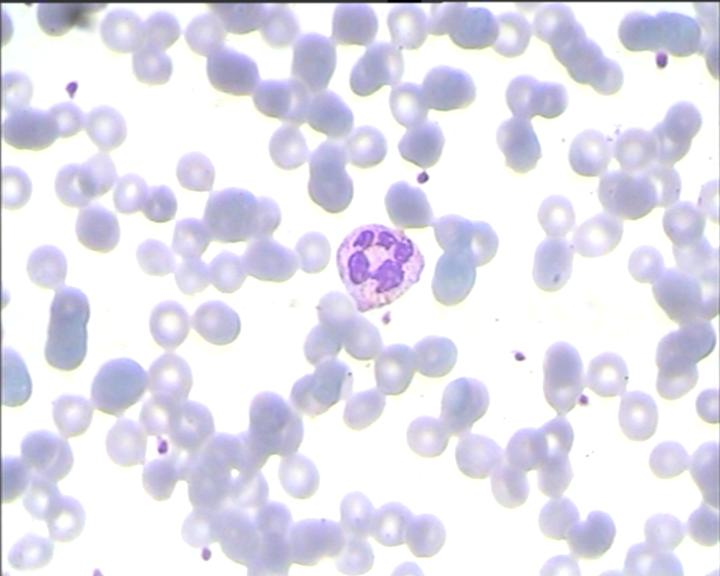neut: (334, 219, 425, 313)
